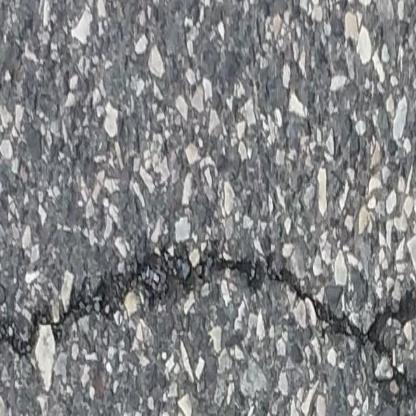Cracks: (0, 249, 416, 409)
